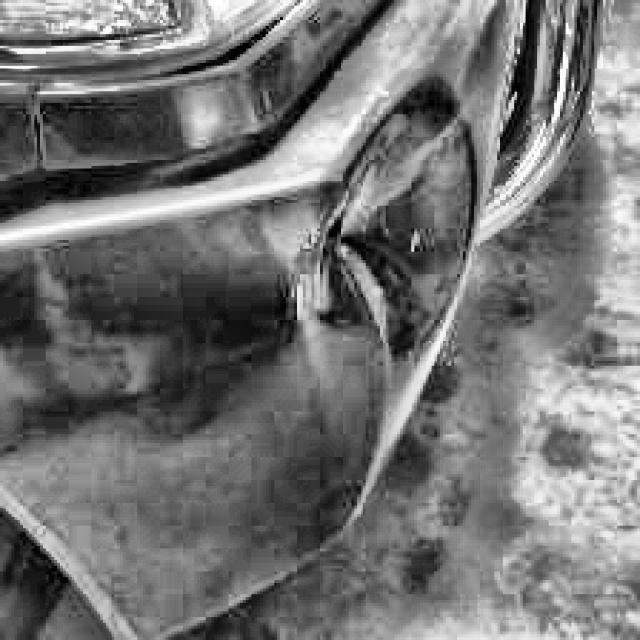bumper_dent: (314, 89, 488, 352)
